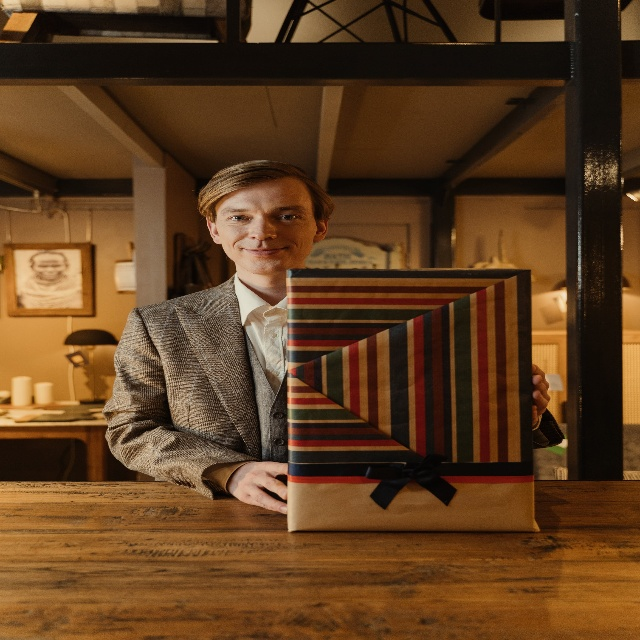Sin_guantes: (232, 459, 288, 515), (531, 362, 551, 432)
